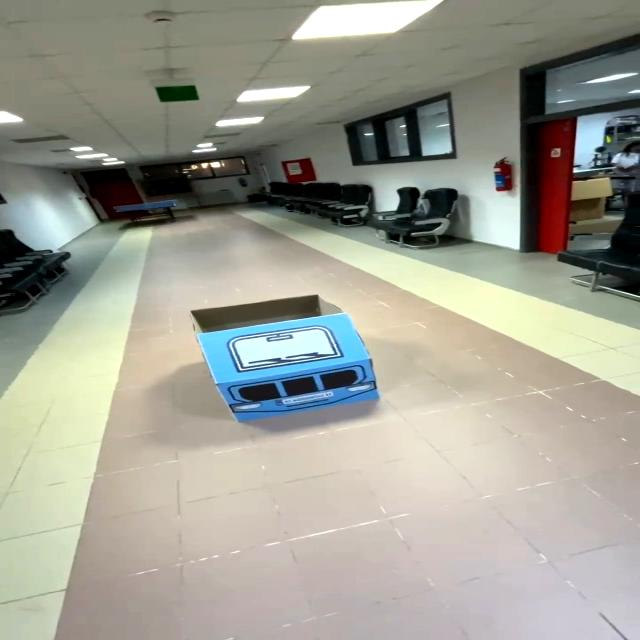blue_car: (173, 285, 413, 437)
